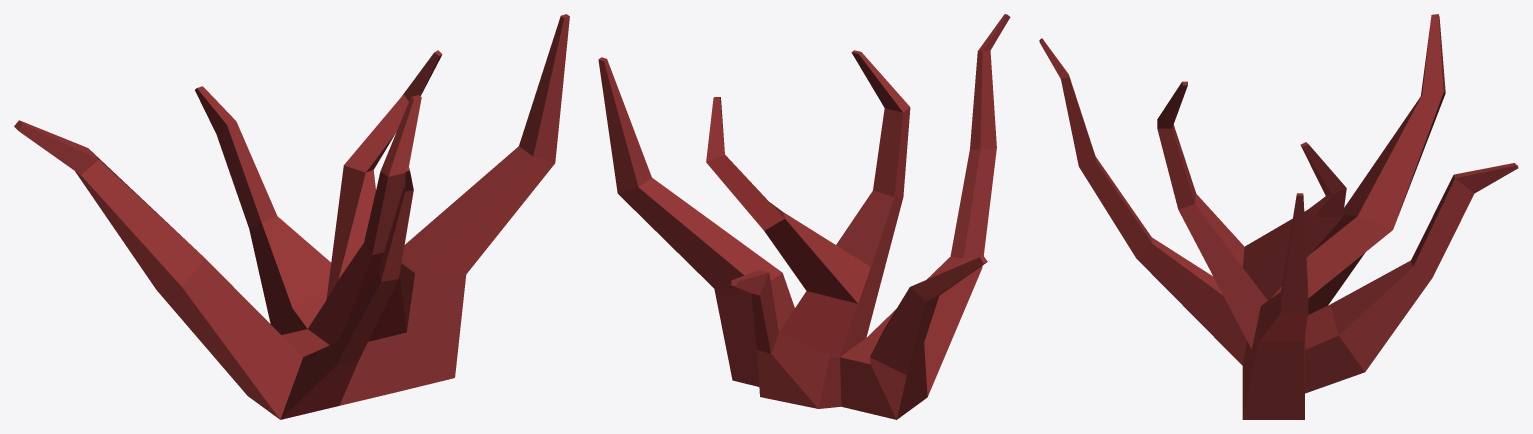
File: BushAutumn3.fbx
The picture shows the model from 3 angles, left to right: view 1: azimuth 30°, elevation 25°; view 2: azimuth 150°, elevation 25°; view 3: azimuth 270°, elevation 25°; orthographic projection. The views are drawn at different scales.
Visible parts, largest first — view 1: BushAutumn3; view 2: BushAutumn3; view 3: BushAutumn3.
Boxes of the visible parts, x1,y1,x2,y2 form: BushAutumn3: [14, 14, 569, 419]; BushAutumn3: [598, 14, 1010, 419]; BushAutumn3: [1039, 14, 1518, 419].
Bounding box in the file's own units: 0.8554 × 0.5534 × 0.7745.
